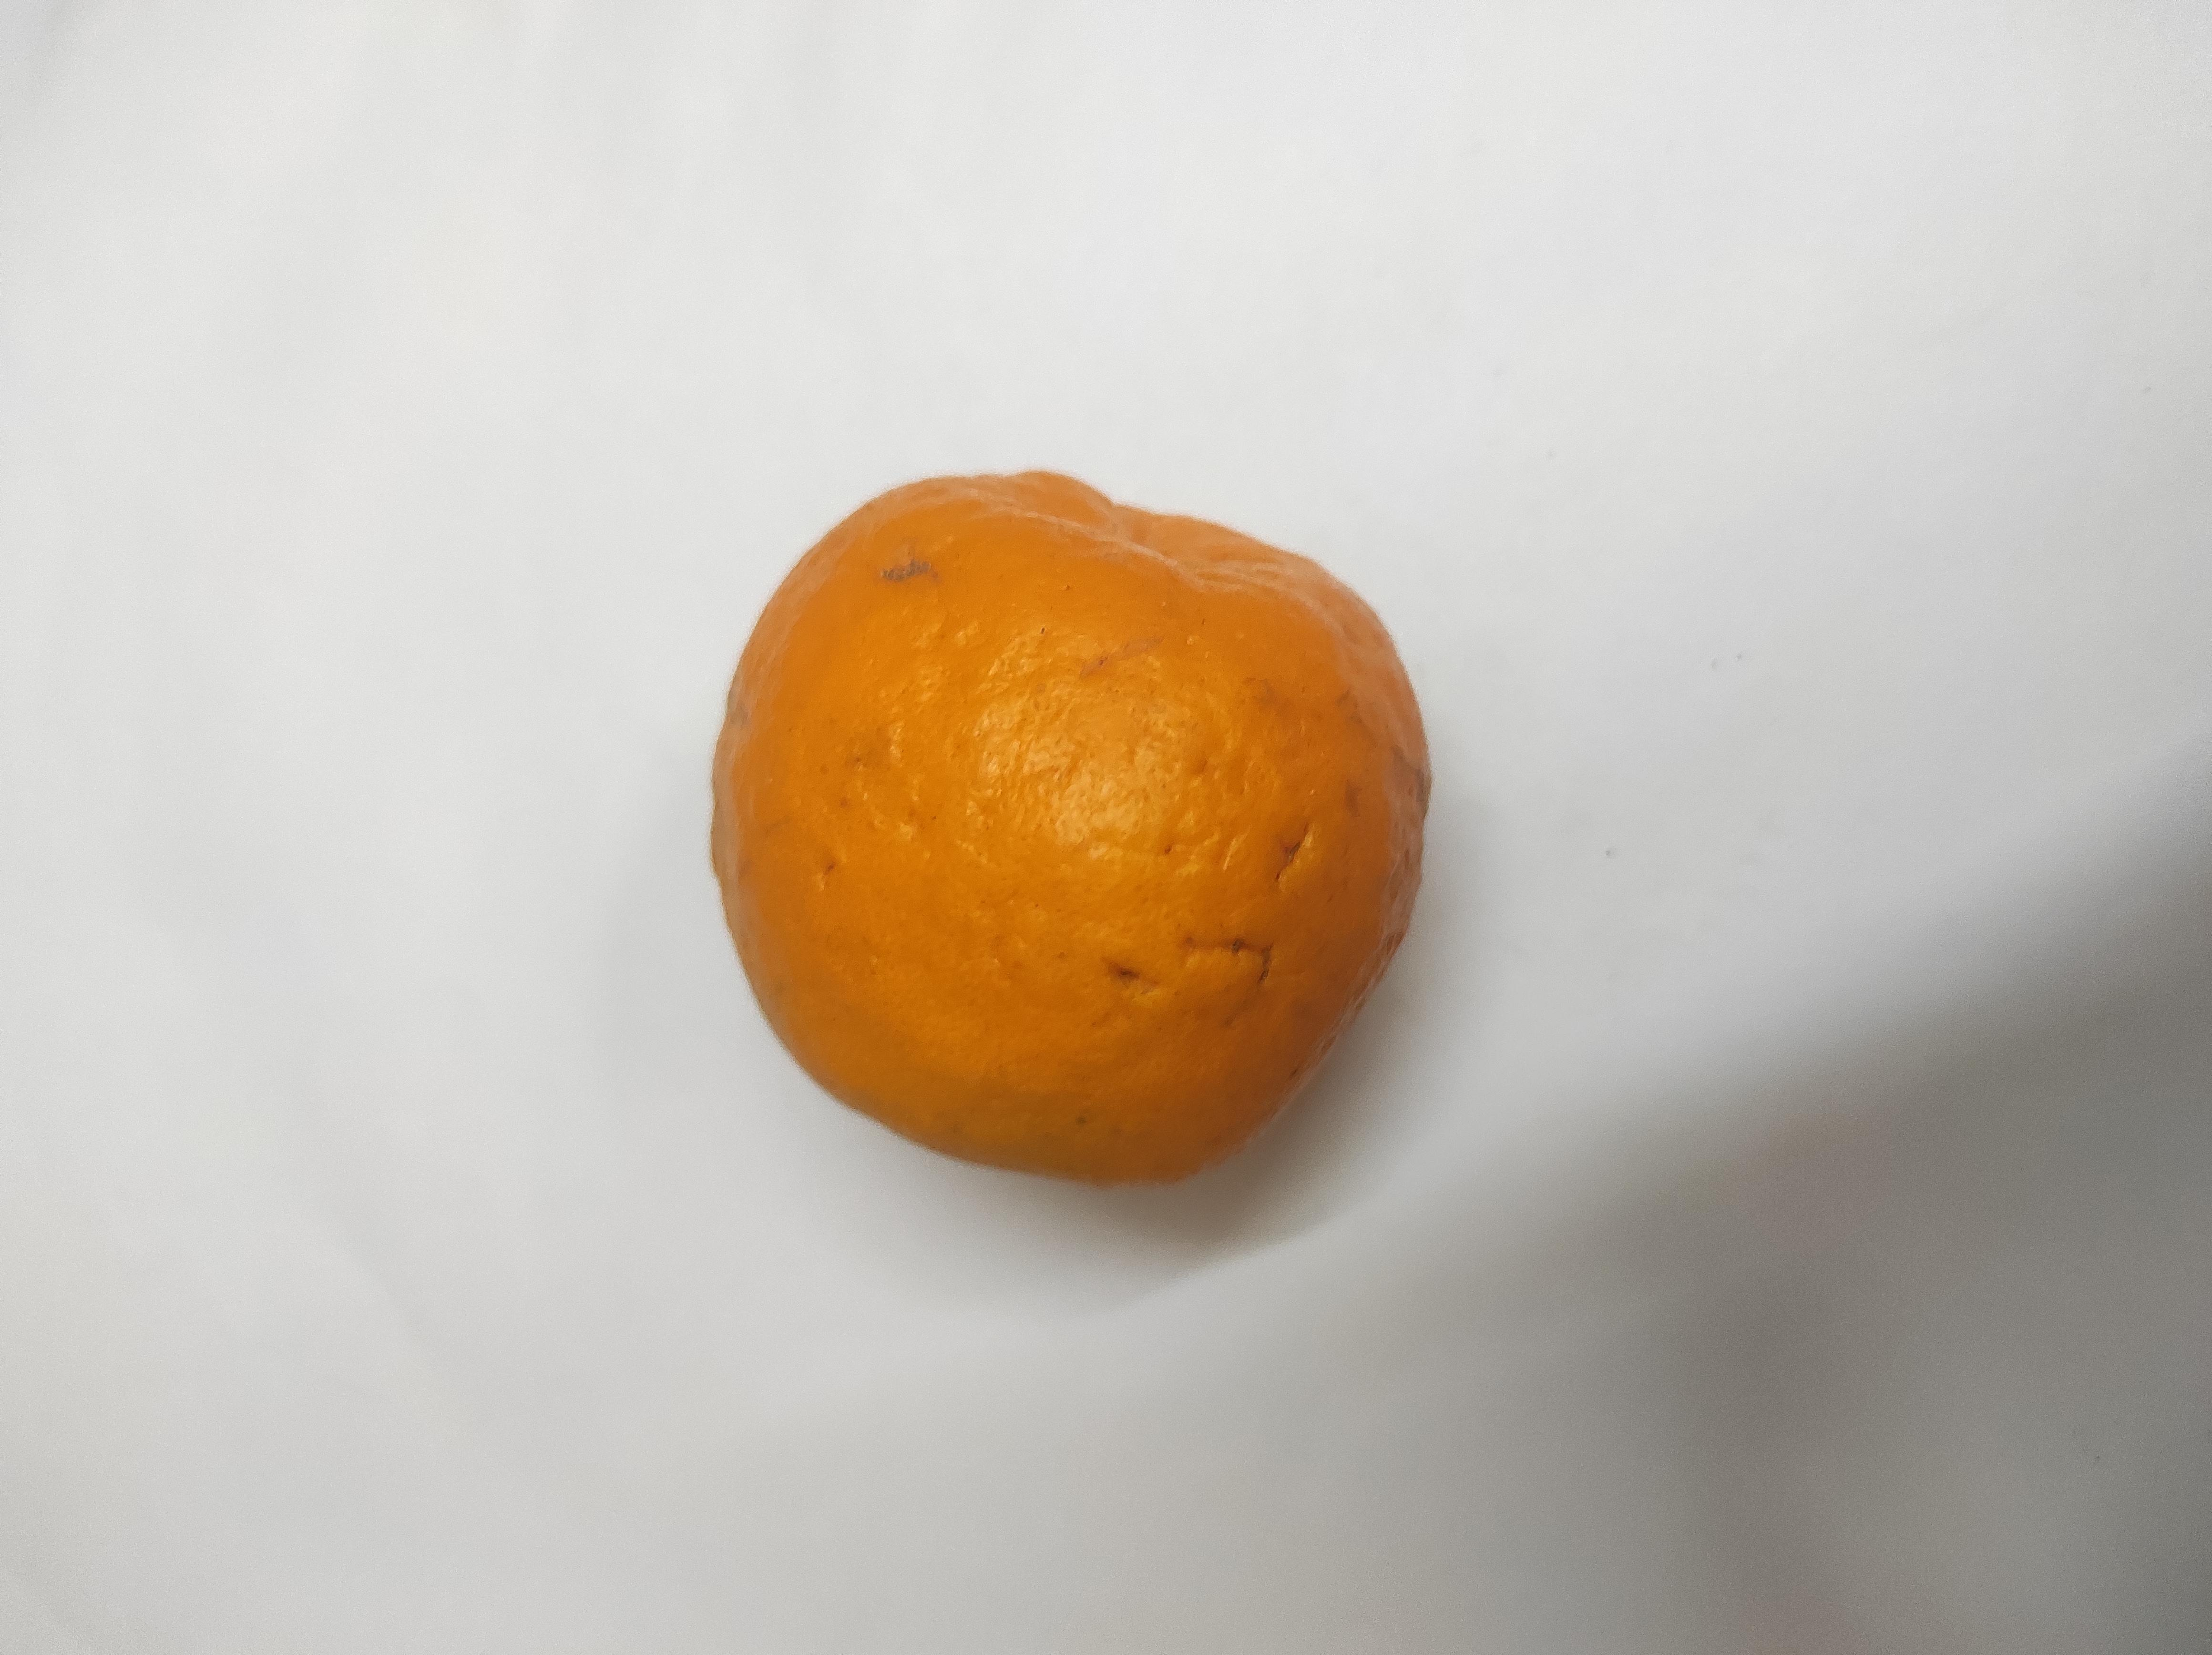Unripe: (631, 522, 1574, 1059)
